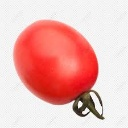tomato: (14, 20, 100, 105)
